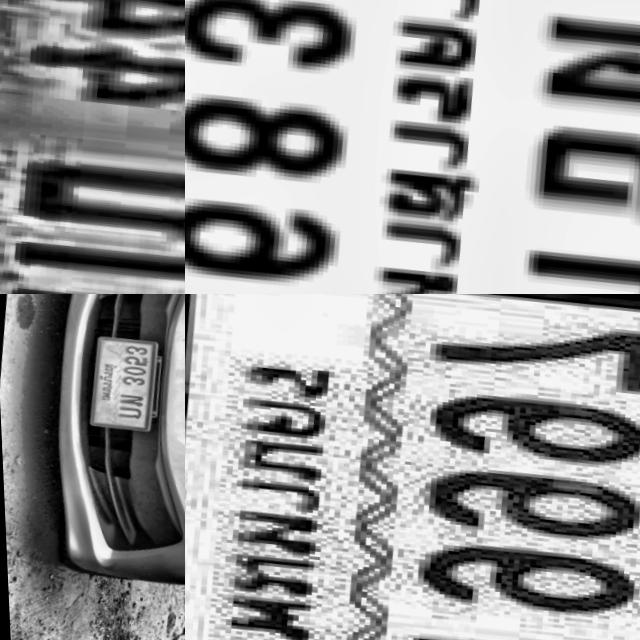license-plate: (185, 294, 640, 640), (185, 0, 640, 294), (0, 0, 185, 294), (76, 332, 164, 434)
